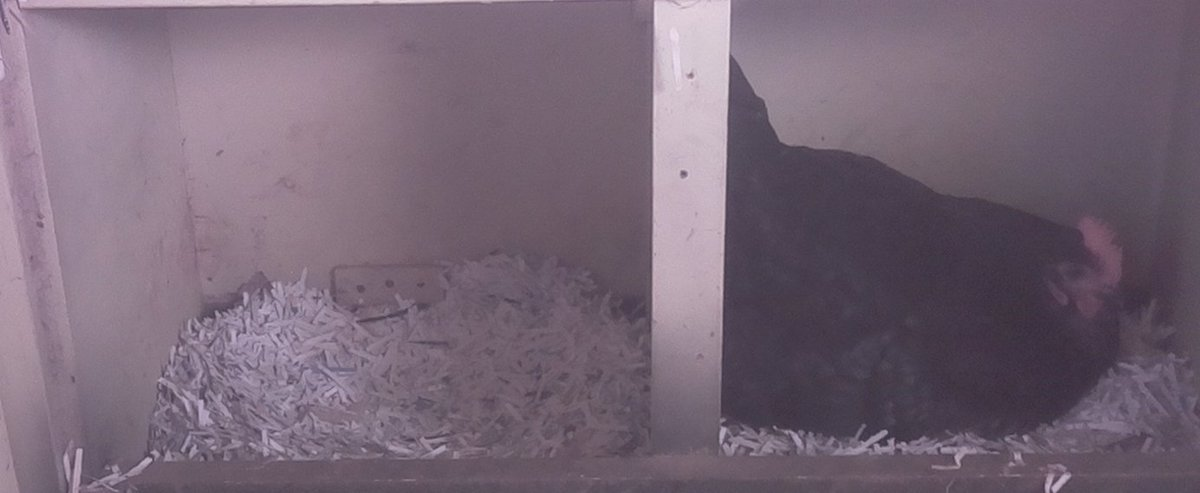hen: (726, 149, 1131, 447)
